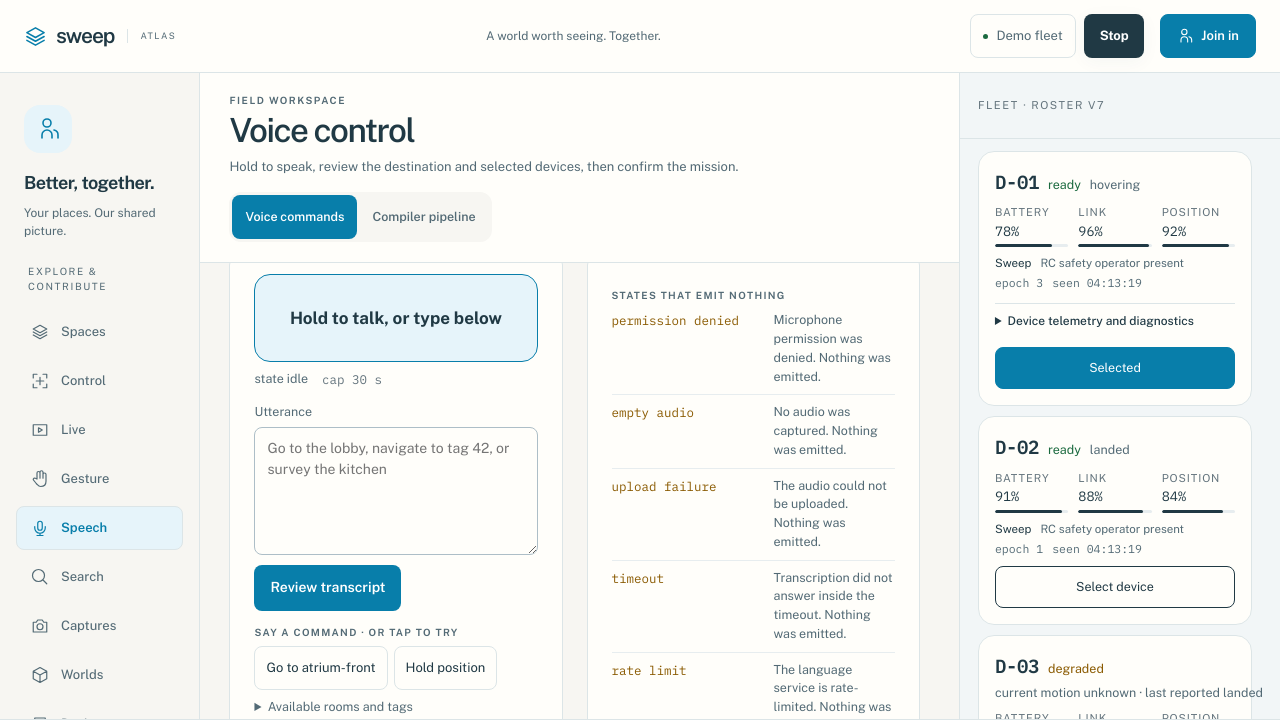
Test: a semantic multiview review starts the shared photo-route review without reselecting stops
This screenshot has width=1280, height=720.
(page scrolled)
Type "Photograph the atrium front and carpet." into the text box labelled "Utterance" at (396, 491), box [254, 427, 538, 555]
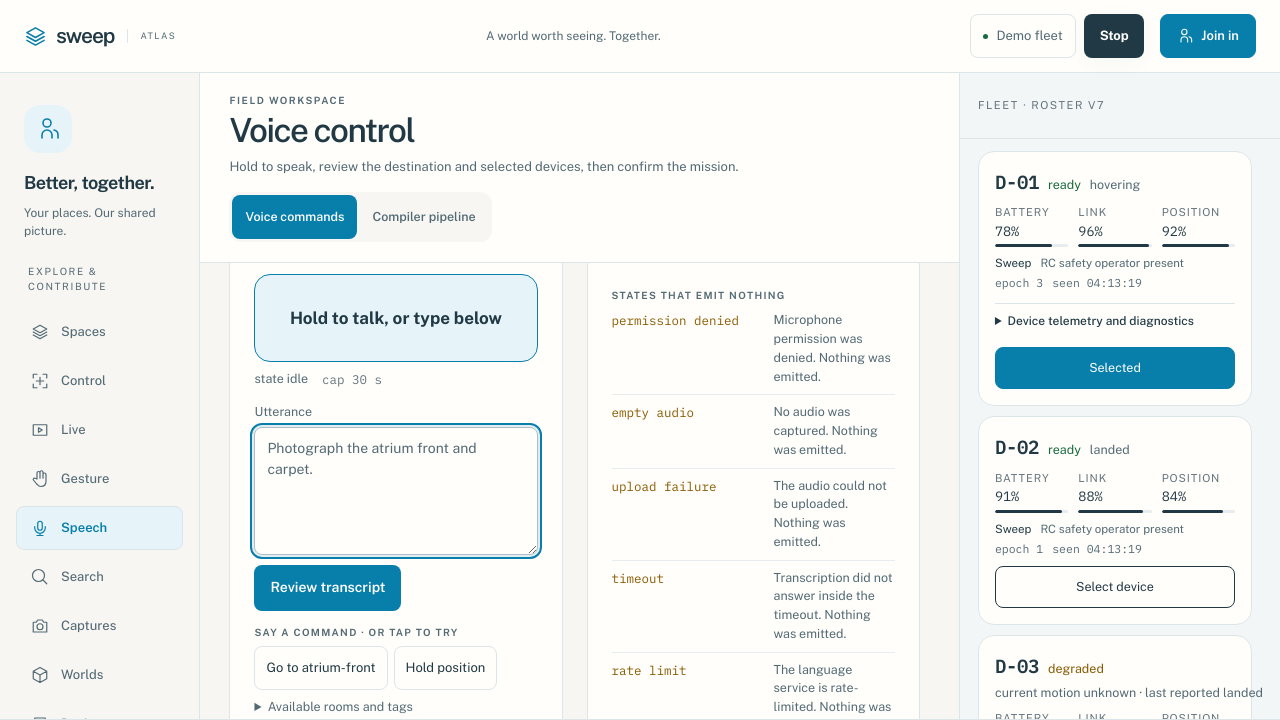
Click the button "Review transcript" at (328, 588), box [254, 565, 401, 611]
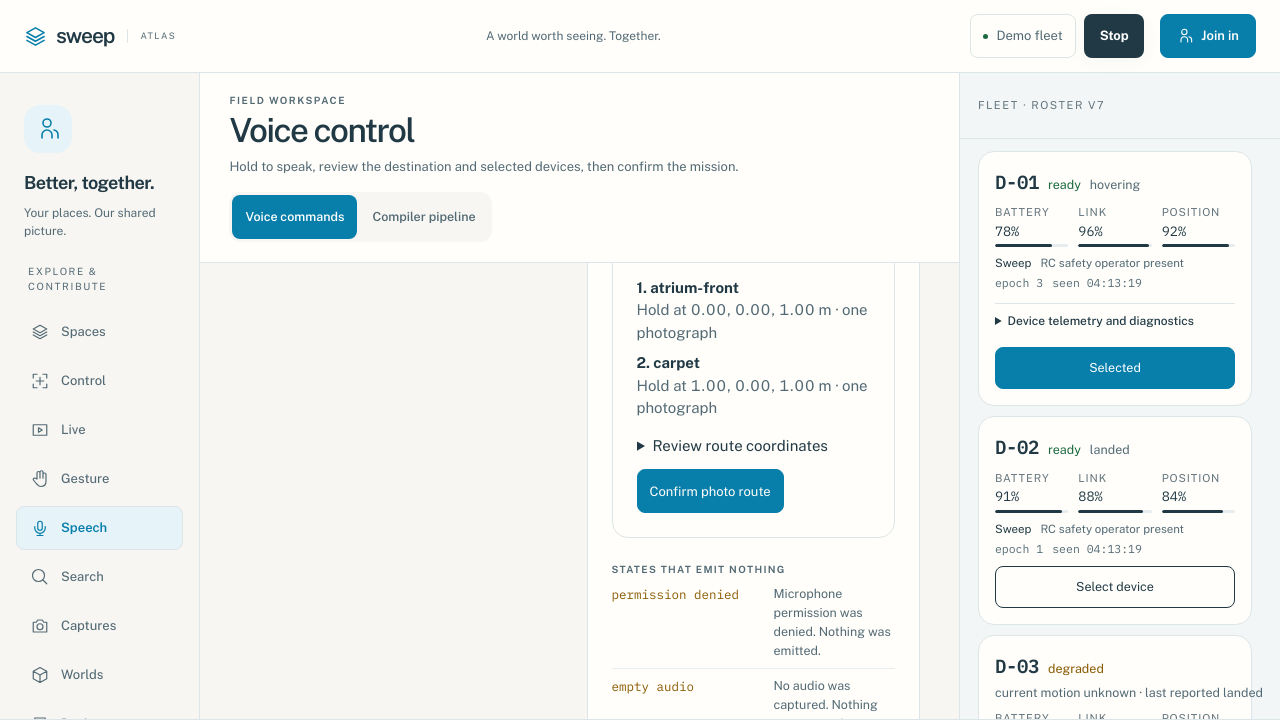
Expected: the button "Confirm photo route" is enabled, [636, 469, 784, 513]
